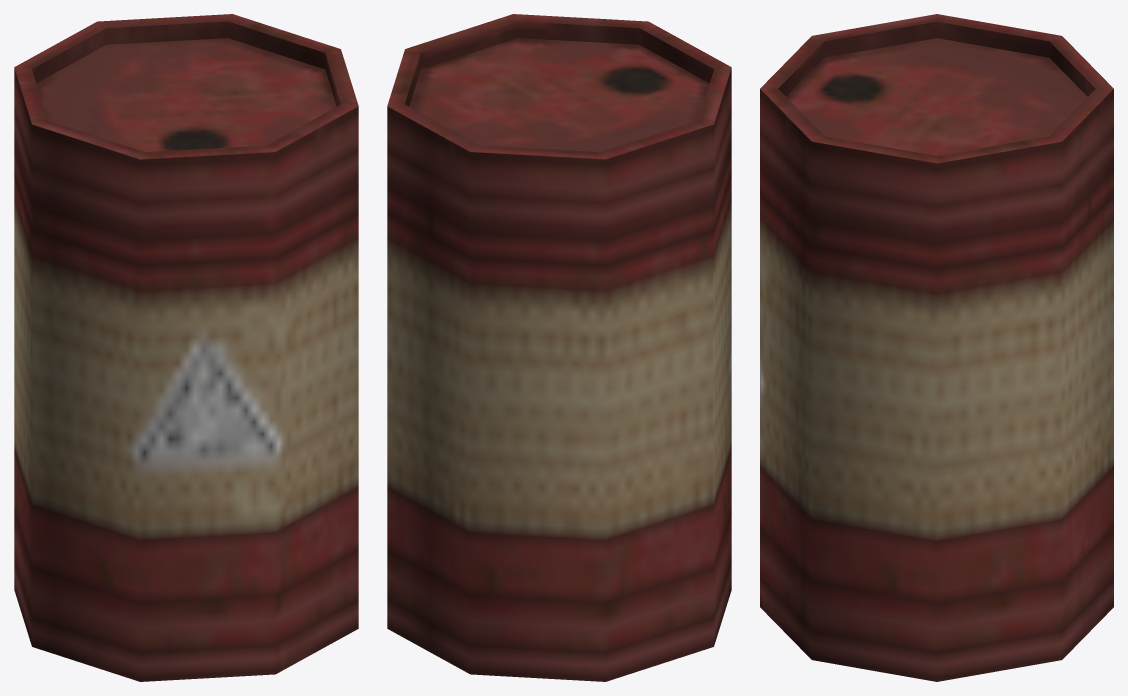
The model's file is barrel.fbx.
3 renders of one model, left to right at view 1: azimuth 30°, elevation 25°; view 2: azimuth 150°, elevation 25°; view 3: azimuth 270°, elevation 25°, orthographic.
Visible parts, largest first — view 1: barrel; view 2: barrel; view 3: barrel.
Part boxes in pixels (x1,y1,x2,y2): barrel: [14, 14, 358, 681]; barrel: [387, 14, 731, 681]; barrel: [760, 14, 1113, 681].
Size of the model in its own units: 124 by 200 by 124.
